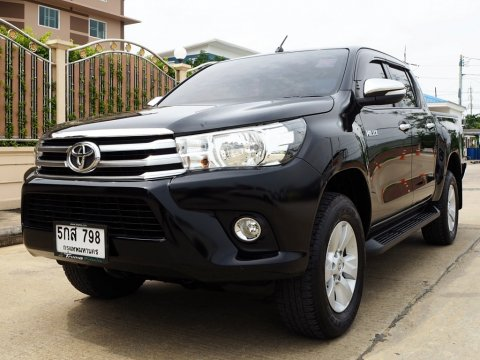pickup: (21, 43, 466, 337)
